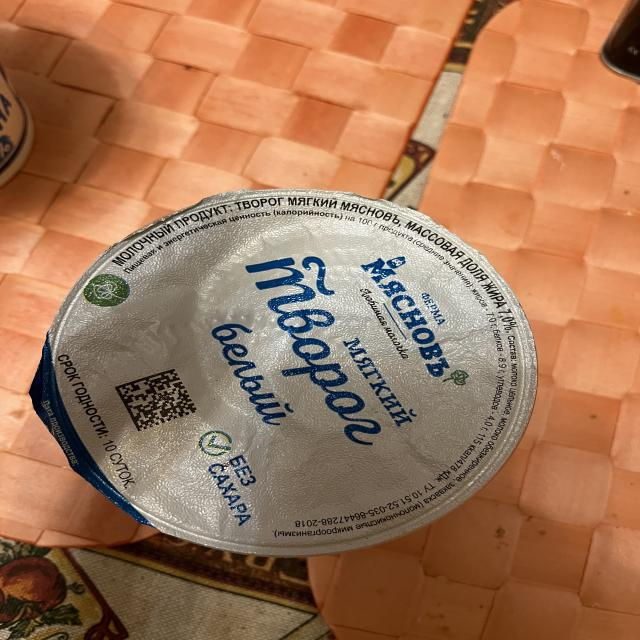datamatrix: (116, 369, 198, 433)
